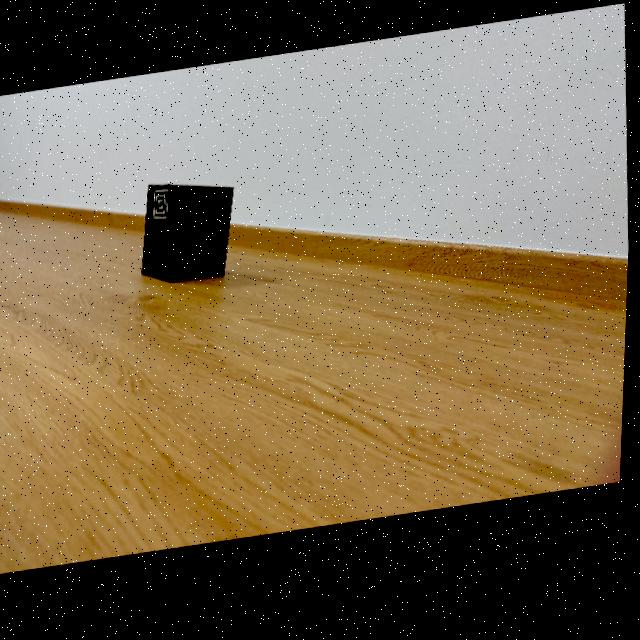BULLSEYE: (153, 187, 173, 228)
